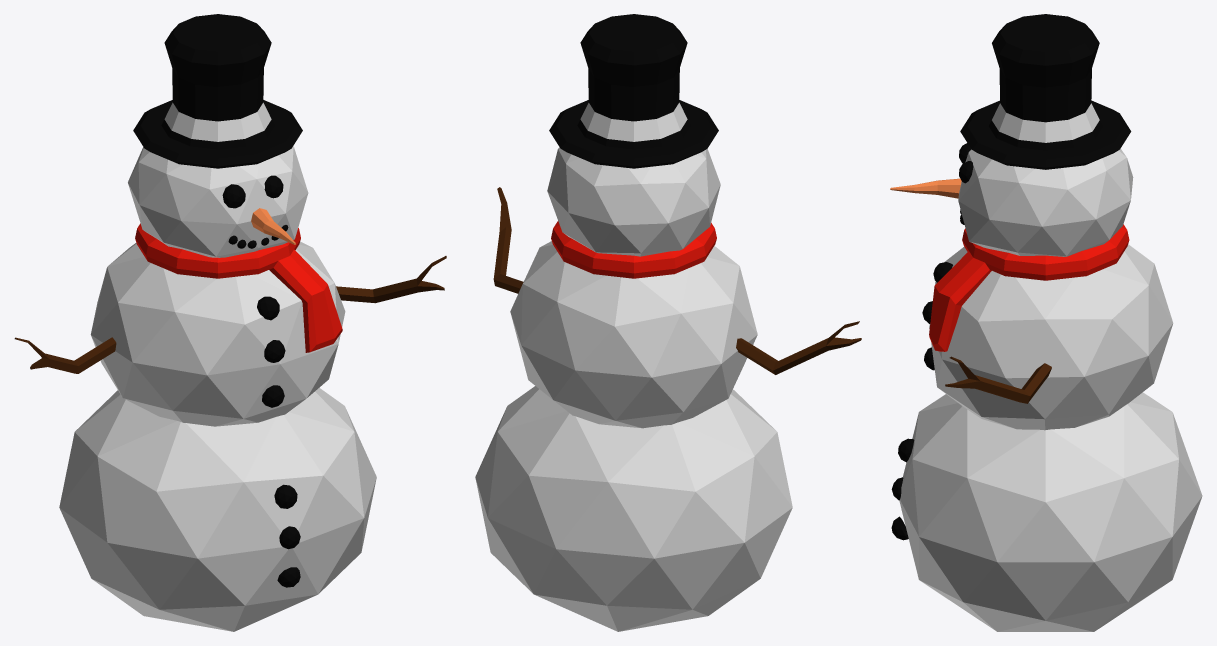
File: Snowman.fbx
3 renders of one model, left to right at view 1: azimuth 30°, elevation 25°; view 2: azimuth 150°, elevation 25°; view 3: azimuth 270°, elevation 25°, orthographic.
Parts seen in each view (by area): view 1: Snowman; view 2: Snowman; view 3: Snowman.
Boxes of the visible parts, x1,y1,x2,y2 form: Snowman: (14,14,446,631); Snowman: (475,14,861,631); Snowman: (890,14,1202,631).
Bounding box in the file's own units: 73.56 × 100 × 49.77.
